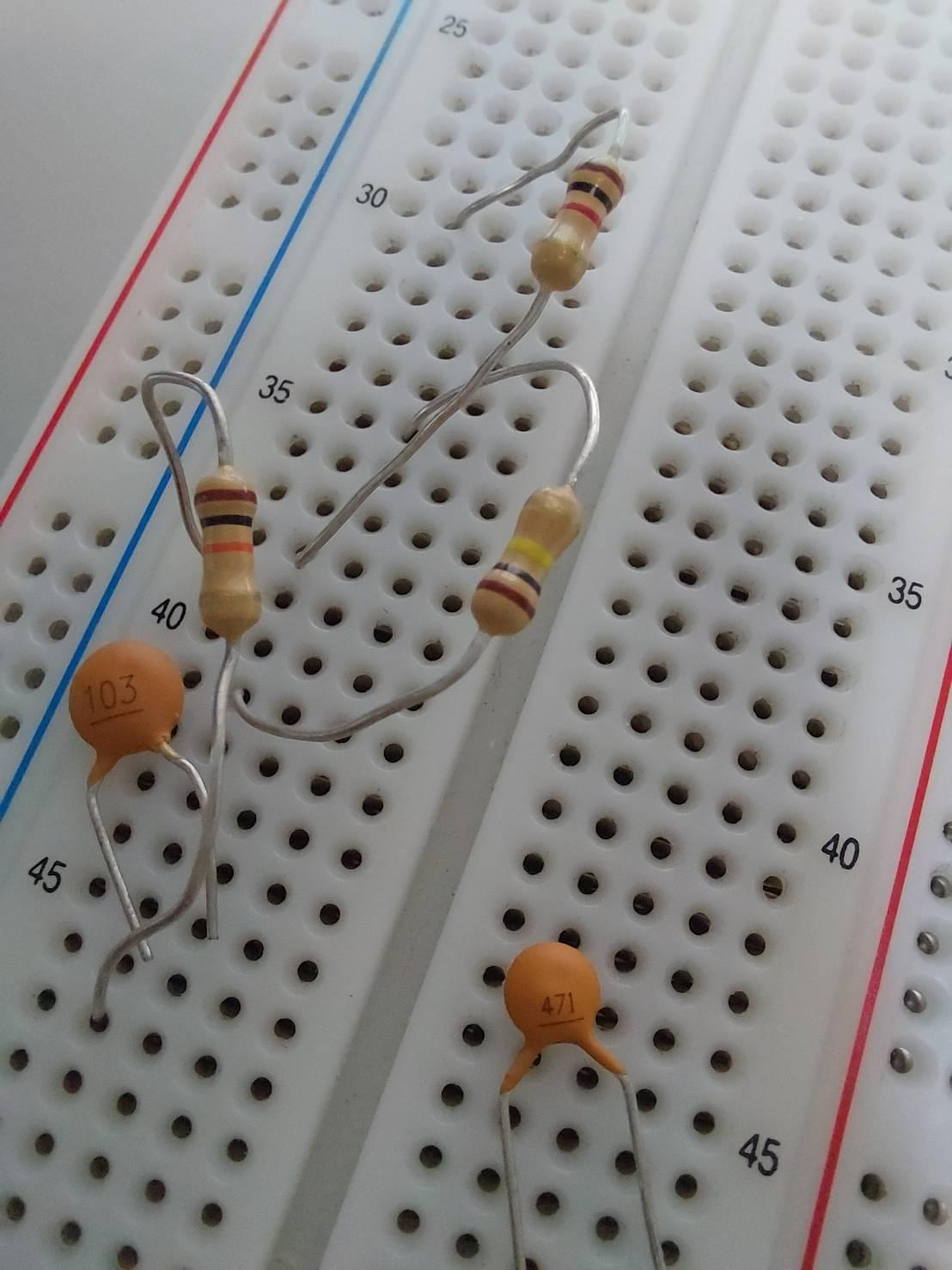resistor: (466, 478, 604, 644), (522, 149, 628, 291), (189, 463, 265, 633)
